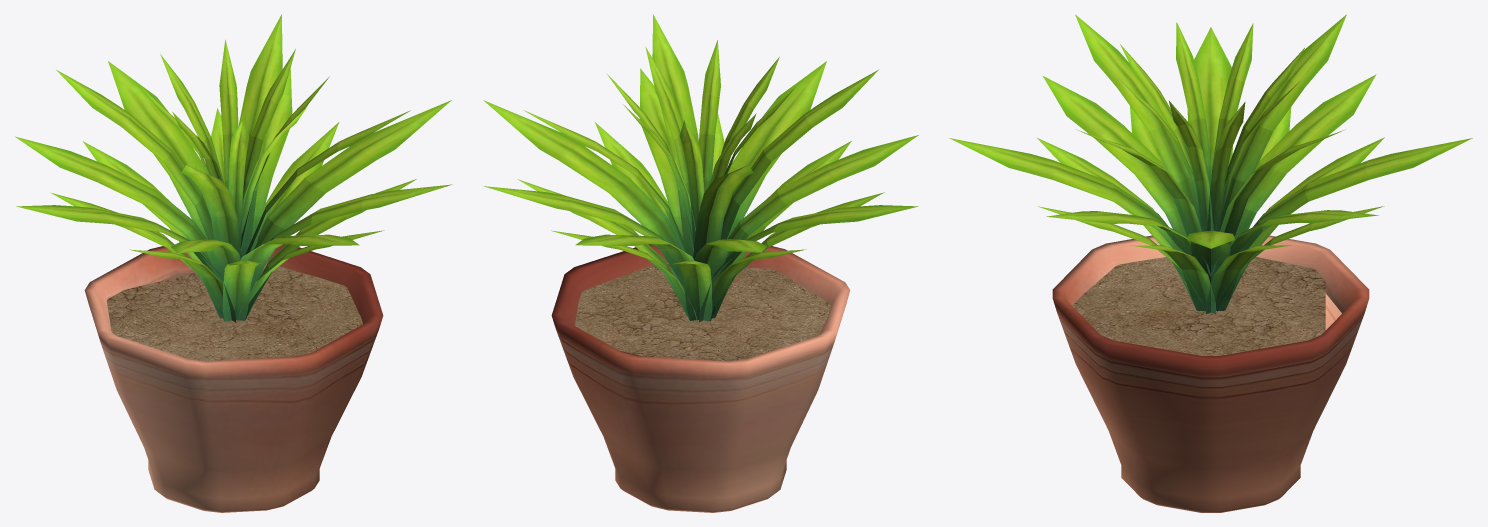
File: bush_little_plant.glb
3 views of the same model, side by side, from view 1: azimuth 30°, elevation 25°; view 2: azimuth 150°, elevation 25°; view 3: azimuth 270°, elevation 25° (orthographic). The views are drawn at different scales.
Visible parts, largest first — view 1: 3_3, 1_1, 2_2; view 2: 3_3, 1_1, 2_2; view 3: 3_3, 1_1, 2_2.
Boxes of the visible parts, x1,y1,x2,y2 form: 3_3: (15, 14, 452, 322); 1_1: (84, 244, 383, 512); 2_2: (106, 263, 362, 361); 3_3: (483, 14, 918, 322); 1_1: (551, 244, 850, 512); 2_2: (575, 263, 830, 361); 3_3: (949, 14, 1472, 314); 1_1: (1052, 235, 1369, 512); 2_2: (1072, 257, 1325, 355).
Size of the model in its own units: 0.266 by 0.232 by 0.266.
3 materials, 3 textured.
